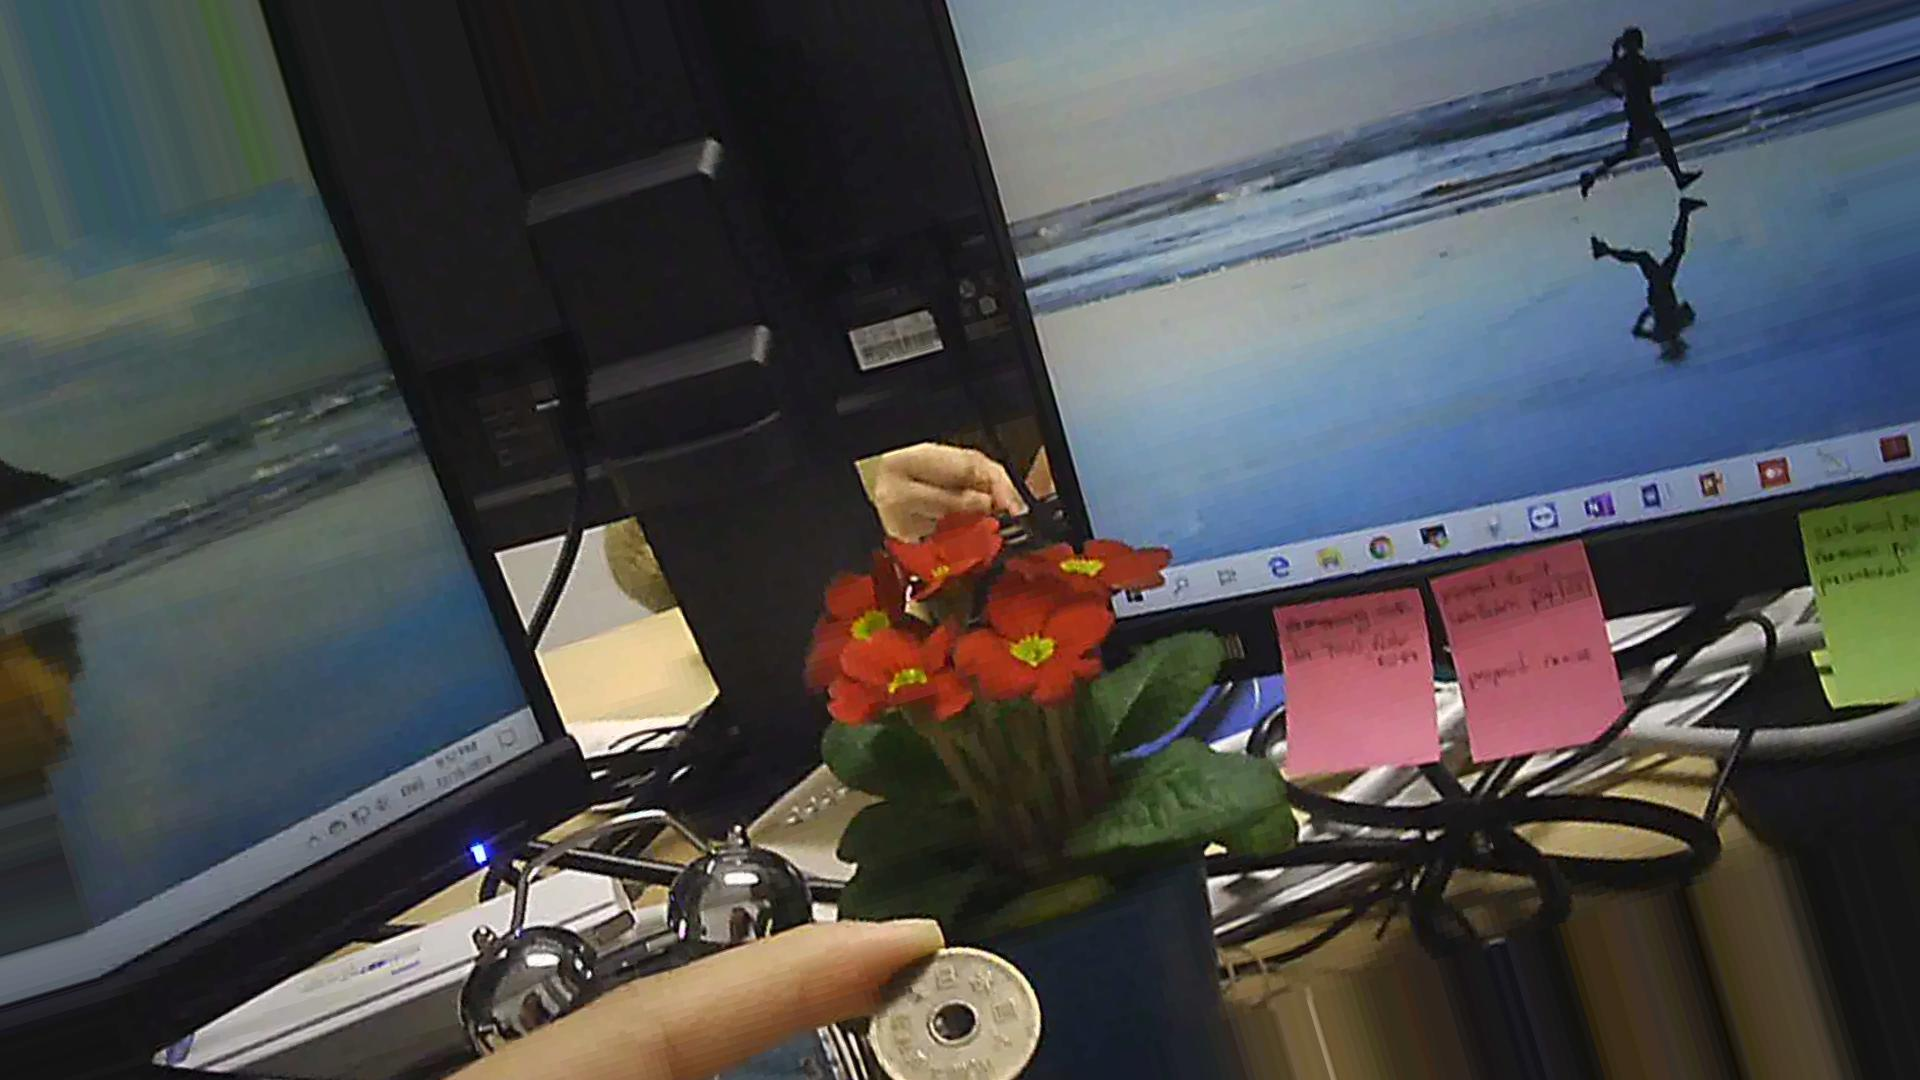5 Yen: (851, 935, 1042, 1073)
